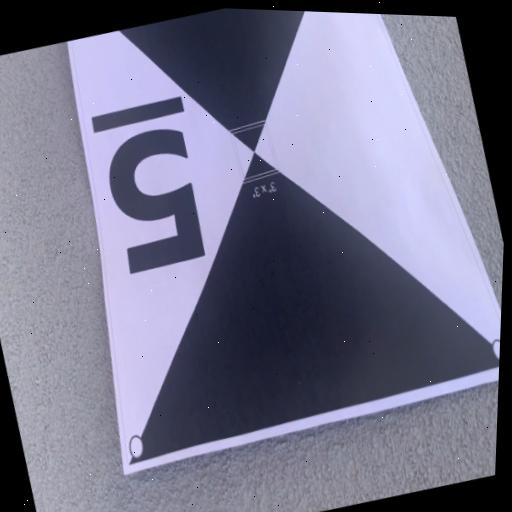target5: (66, 8, 501, 477)
